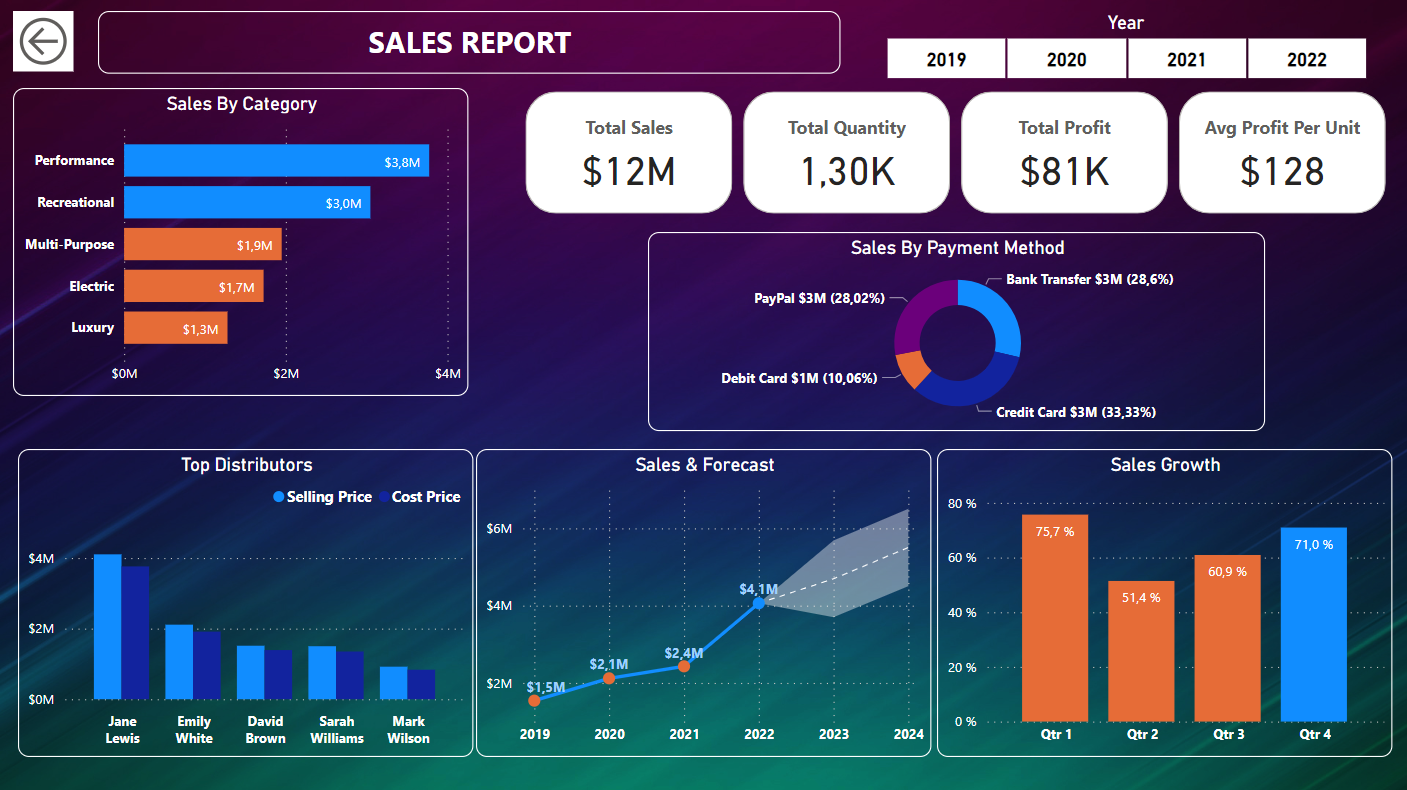

The dashboard page shown, as its layout file describes it:
{"tool":"powerbi","page":{"name":"Sales","canvas":[1280,720],"ordinal":0},"visuals":[{"type":"textbox","box":[88.8,10.4,674.5,56.9],"z":0},{"type":"cardVisual","fields":{"Data":["Sales.Sales($)","Sales.QuantitySold ","Sales.Profit","Sales.ProfitPerUnit"]},"box":[473,78,793,121],"z":1000},{"type":"barChart","title":"Sales By Category","fields":{"Y":["Sales.Sales($)"],"Category":["Category.CategoryType"]},"box":[12,80,414,280],"z":2000},{"type":"clusteredColumnChart","title":"Top Distributors","fields":{"Category":["Distributor.FullName"],"Y":["Sales.Sales($)","Sales.TotalProductionCost"]},"box":[16,408,414,280],"z":3000},{"type":"clusteredColumnChart","title":"Sales Growth","fields":{"Y":["Sales.Sales($) YoY%"],"Category":["Sales.Date       .Variation.Date Hierarchy.Year","Sales.Date       .Variation.Date Hierarchy.Quarter","Sales.Date       .Variation.Date Hierarchy.Month","Sales.Date       .Variation.Date Hierarchy.Day"]},"box":[851.8,408.2,413.6,280],"z":4000},{"type":"lineChart","title":"Sales & Forecast","fields":{"Category":["Sales.Date       .Variation.Date Hierarchy.Year","Sales.Date       .Variation.Date Hierarchy.Quarter","Sales.Date       .Variation.Date Hierarchy.Month","Sales.Date       .Variation.Date Hierarchy.Day"],"Y":["Sales.Sales($)"]},"box":[433,408,414,280],"z":5000},{"type":"donutChart","title":"Sales By Payment Method","fields":{"Y":["Sales.Sales($)"],"Series":["Sales.Payment_Methods. PaymentMethod "]},"box":[589,211,561,181],"z":6000},{"type":"slicer","title":"Year","fields":{"Values":["Sales.Date       .Variation.Date Hierarchy.Year"]},"box":[781,10,485,68],"z":7000},{"type":"actionButton","box":[12,10,55,55],"z":8000}]}

Visuals, with their boxes in screenshot pixels (x1, y1, x2, y2), scaled from the page's 1280x720 canvas onto the 1407x790 screenshot:
textbox: box=[98, 11, 839, 74]
cardVisual - Sales.Sales($) x Sales.QuantitySold : box=[520, 86, 1392, 218]
"Sales By Category" barChart: box=[13, 88, 468, 395]
"Top Distributors" clusteredColumnChart: box=[18, 448, 473, 755]
"Sales Growth" clusteredColumnChart: box=[936, 448, 1391, 755]
"Sales & Forecast" lineChart: box=[476, 448, 931, 755]
"Sales By Payment Method" donutChart: box=[647, 232, 1264, 430]
"Year" slicer: box=[858, 11, 1392, 86]
actionButton: box=[13, 11, 74, 71]
